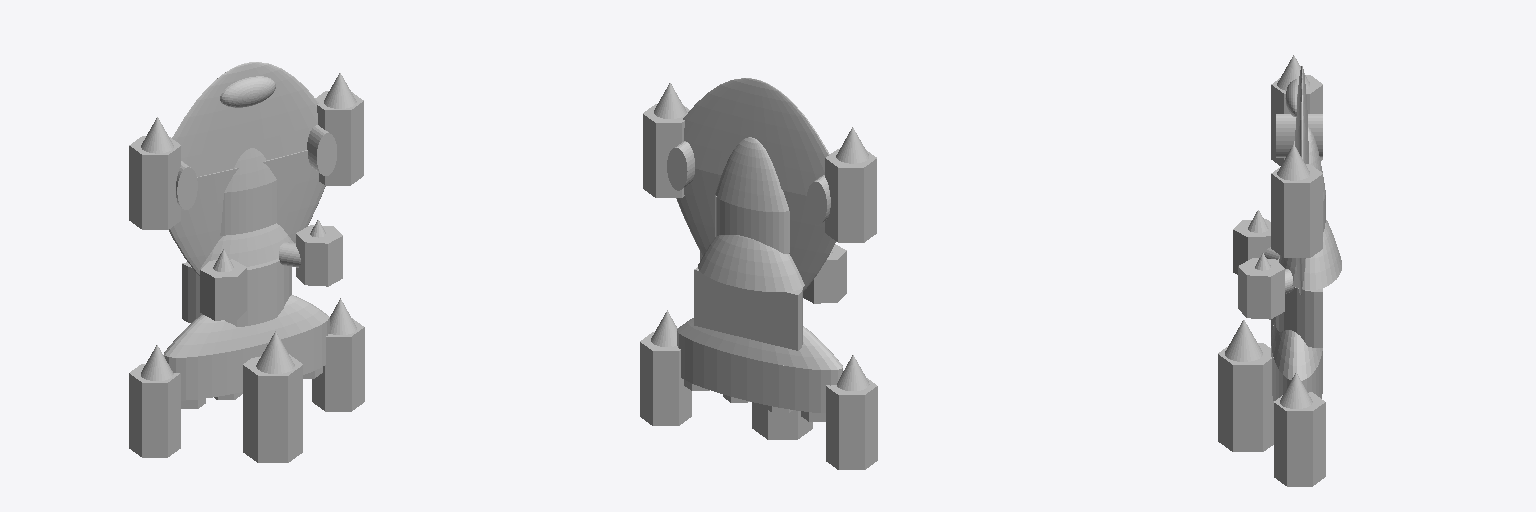
File: space_ship.obj
3 views of the same model, side by side, from view 1: azimuth 30°, elevation 25°; view 2: azimuth 150°, elevation 25°; view 3: azimuth 270°, elevation 25° (orthographic).
Bounding box in the file's own units: 109 × 172 × 52.62.